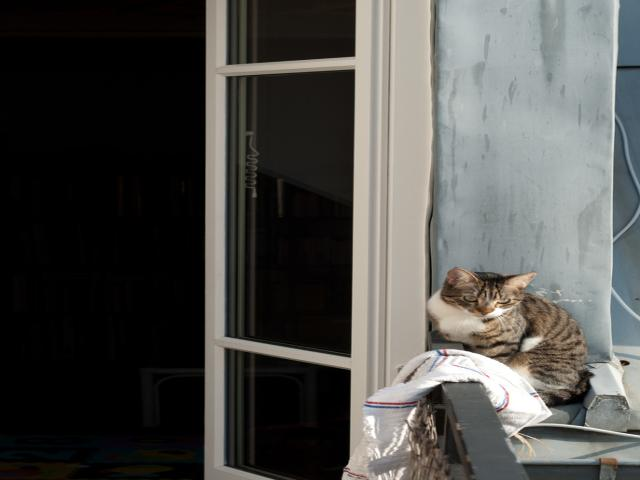Cat: (422, 269, 586, 399)
